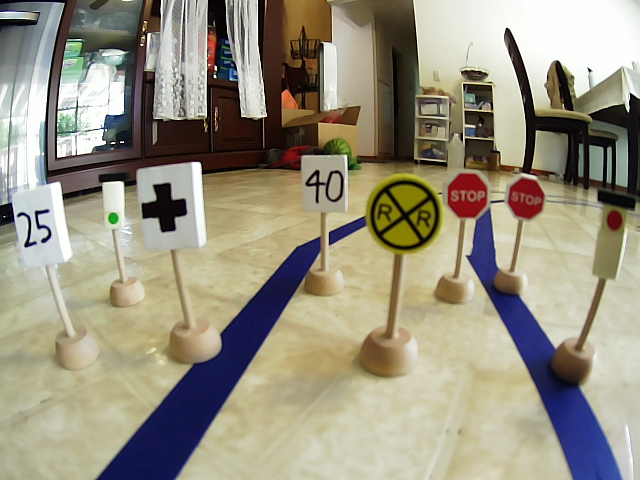25: (16, 179, 73, 268)
40: (300, 151, 350, 214)
green: (97, 172, 130, 226)
plus: (138, 159, 207, 253)
rail: (361, 172, 445, 256)
red: (587, 195, 638, 284)
stop: (446, 169, 494, 222), (504, 170, 549, 222)
